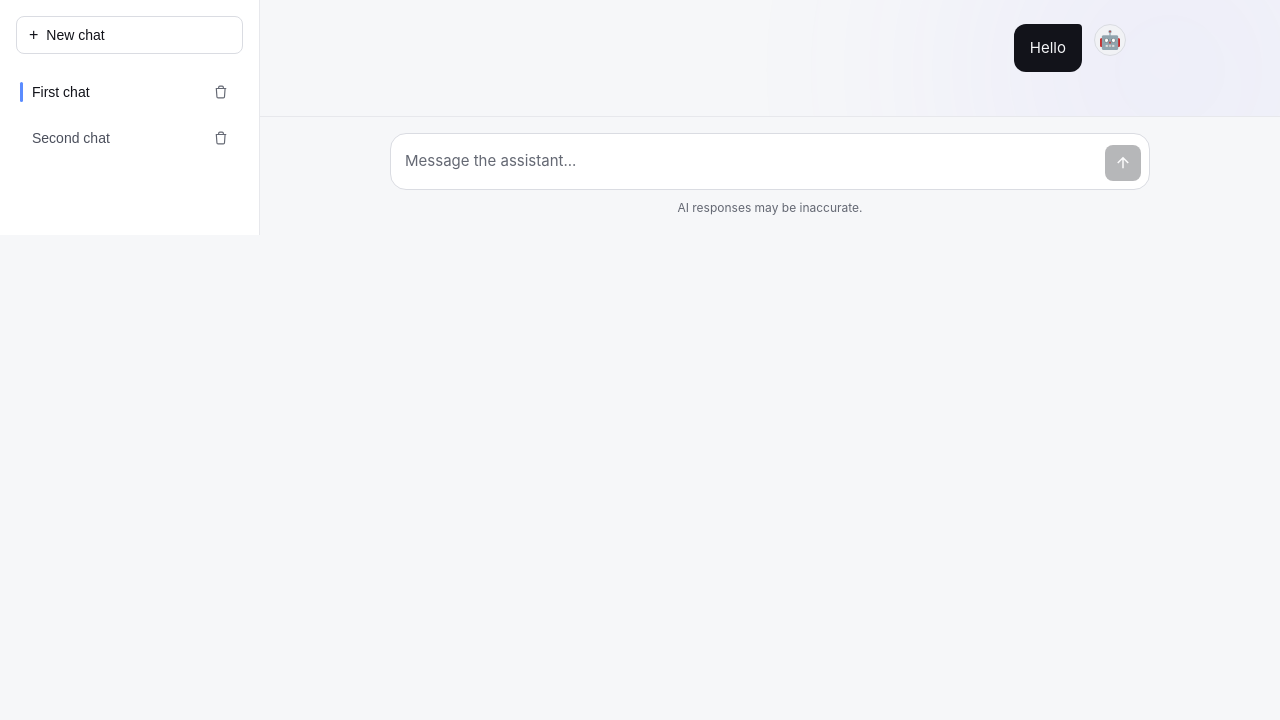
Test: Assistant — deleting conversations › does nothing when the confirmation is cancelled
The width and height of the screenshot is (1280, 720).
Expected: the text "Hello" is shown, [1014, 24, 1082, 72]
Click the button named "Delete Second chat" at (221, 138), box [199, 116, 243, 160]
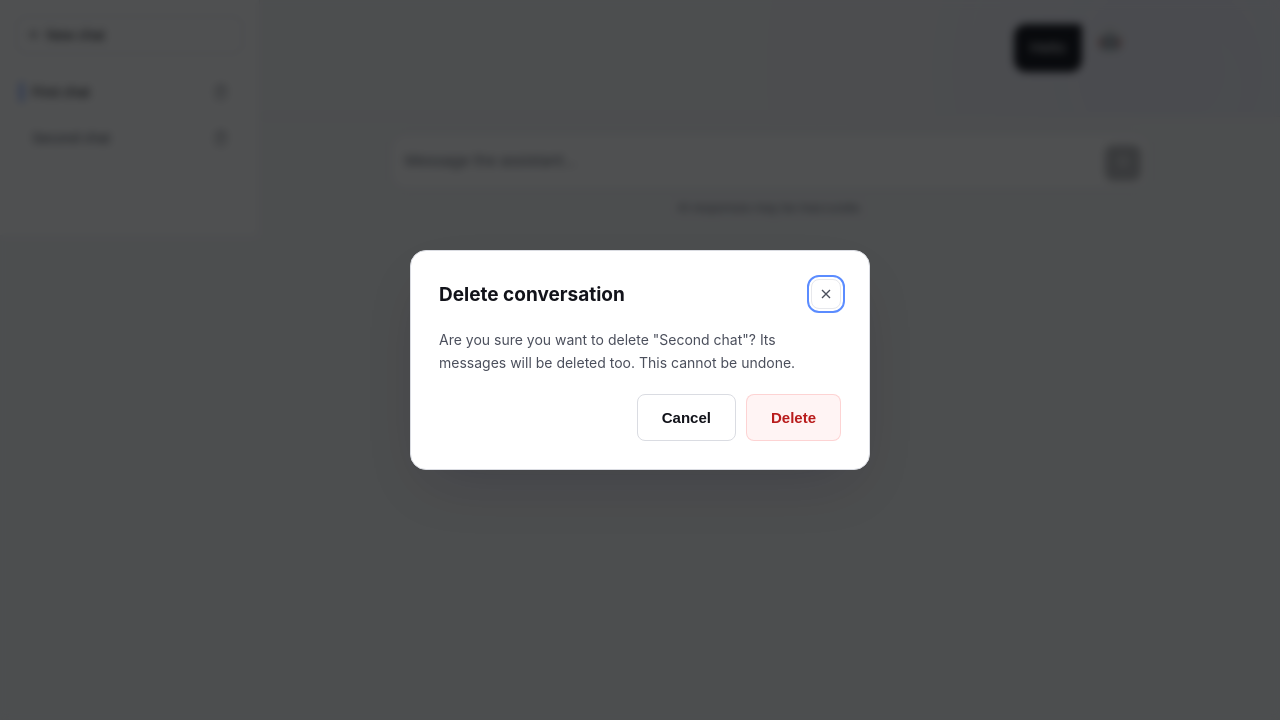
Click the button "Cancel" at (686, 417), box [637, 394, 736, 441]
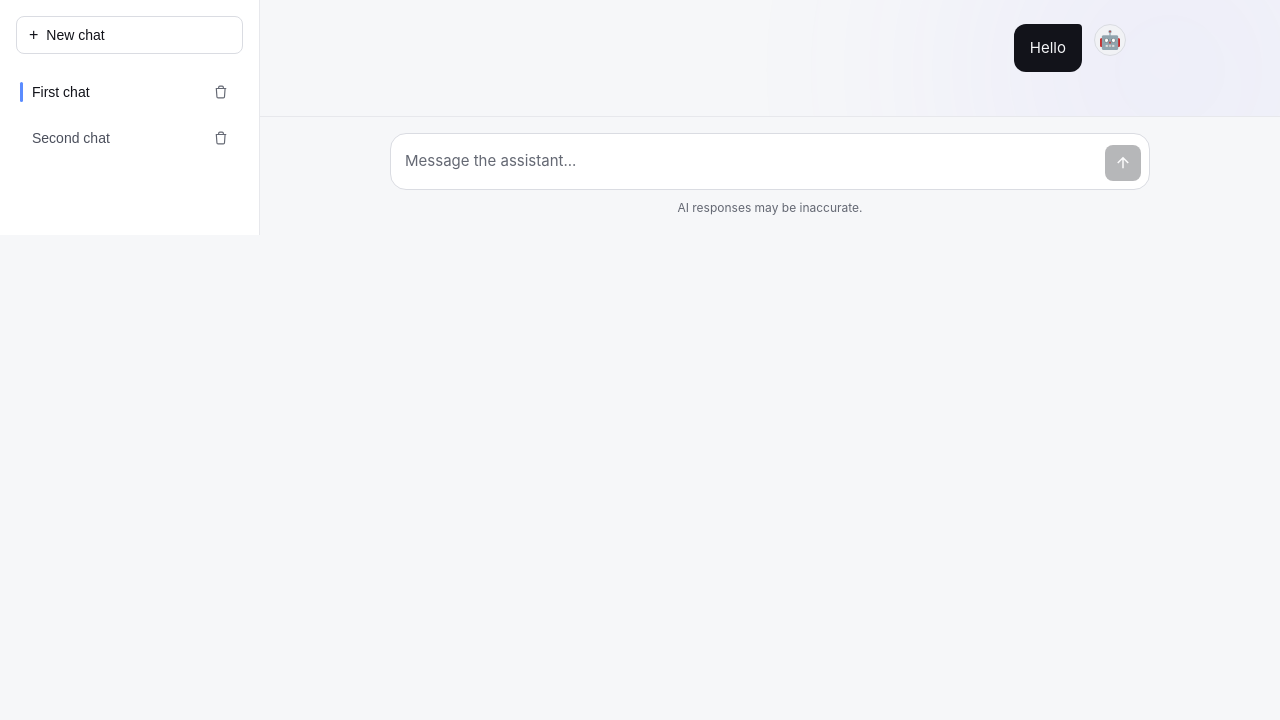
Expected: the button "Second chat" is shown, [16, 120, 199, 156]
Result: the dialog is gone
